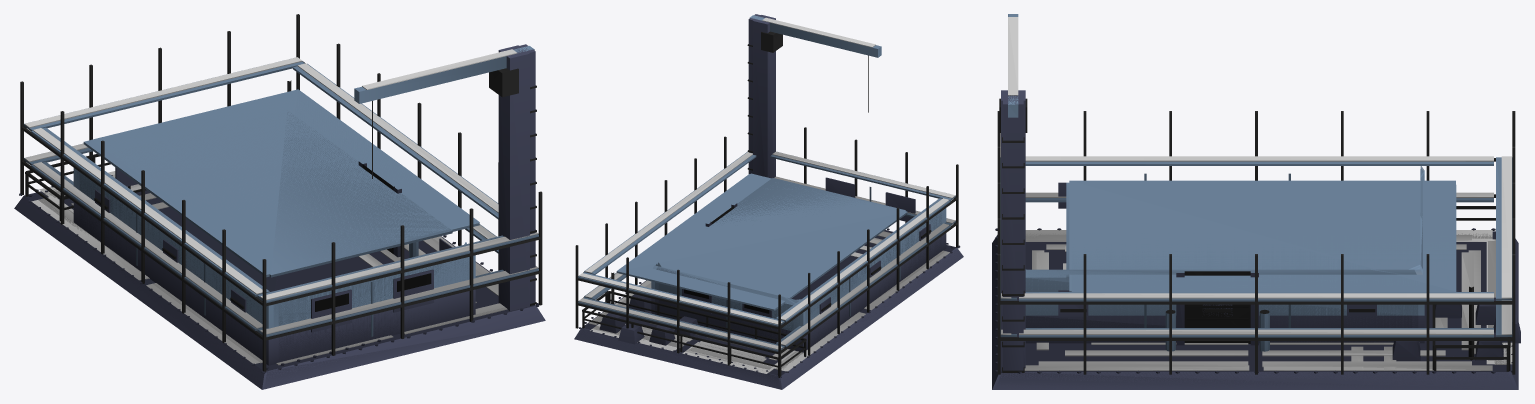
The model's file is veyran_barracks_scaffolding.glb.
3 renders of one model, left to right at view 1: azimuth 30°, elevation 25°; view 2: azimuth 150°, elevation 25°; view 3: azimuth 270°, elevation 25°, orthographic. The views are drawn at different scales.
Visible parts, largest first — view 1: body (×3); view 2: body (×3); view 3: body (×3).
Part boxes in pixels (bbox=[...]): body (×3): bbox=[14, 14, 545, 389]; body (×3): bbox=[574, 14, 963, 389]; body (×3): bbox=[992, 14, 1520, 389].
Size of the model in its own units: 7.4 by 6.67 by 11.25.
